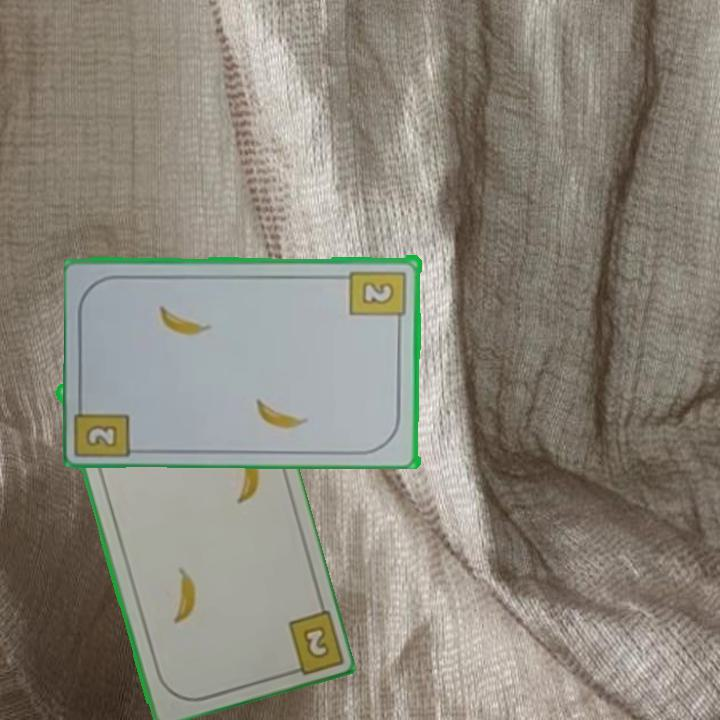2b: (279, 604, 343, 679), (348, 267, 409, 328), (82, 421, 121, 450)
